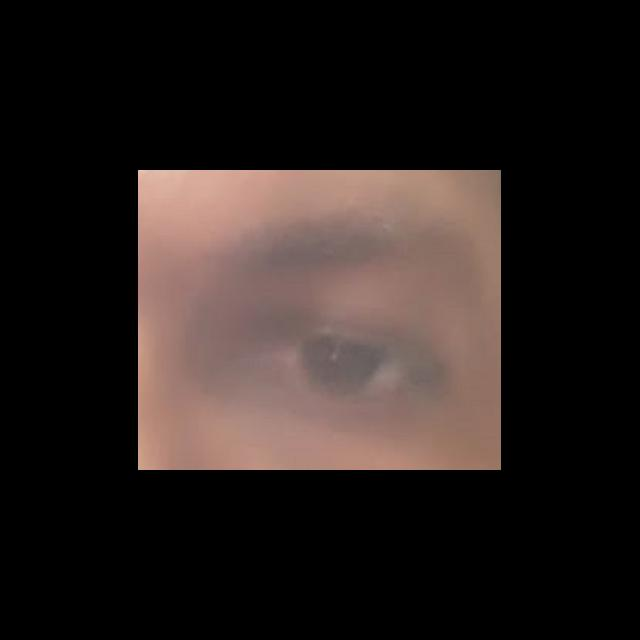eye: (269, 335, 412, 400)
iris: (301, 339, 387, 390)
